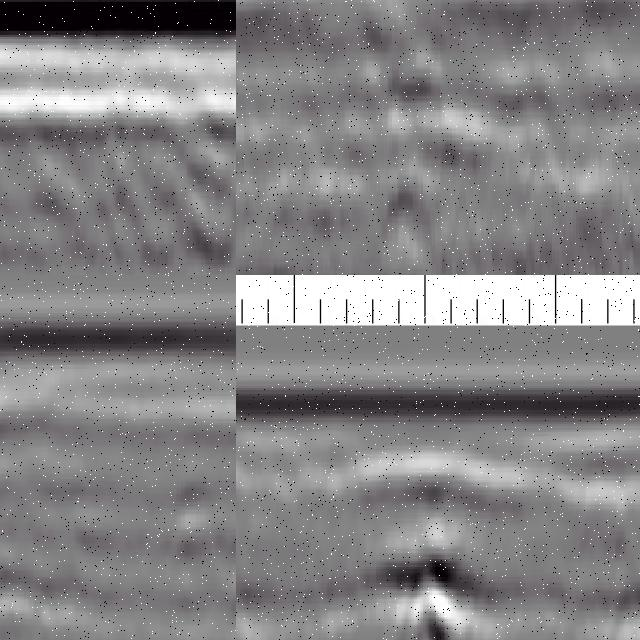crack: (1, 385, 28, 640)
loose: (373, 457, 496, 640), (108, 81, 237, 254)
